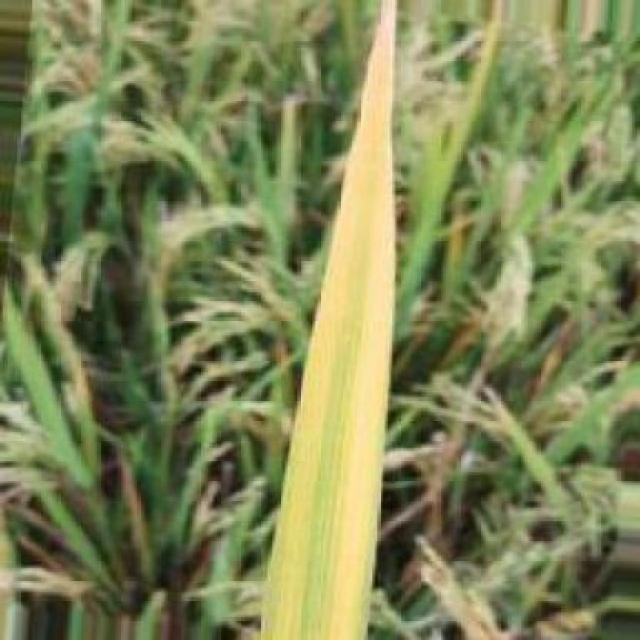Rice Tungro: (258, 2, 399, 630)
